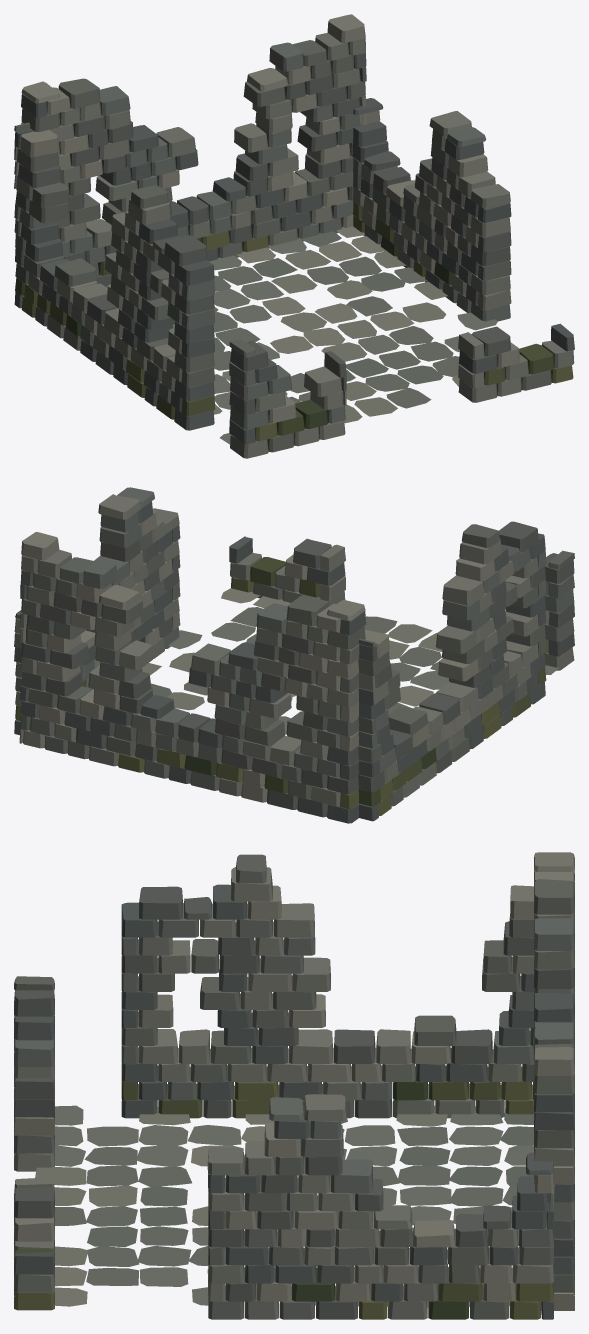
Rendered from fallen-keep-hall.glb.
3 renders of one model, top to bottom at view 1: azimuth 30°, elevation 25°; view 2: azimuth 150°, elevation 25°; view 3: azimuth 270°, elevation 25°, orthographic. The views are drawn at different scales.
Visible parts, largest first — view 1: FallenKeep_Roofless_hall; view 2: FallenKeep_Roofless_hall; view 3: FallenKeep_Roofless_hall.
Part boxes in pixels (left/top/right/bottom): FallenKeep_Roofless_hall: left=14, top=14, right=574, bottom=458; FallenKeep_Roofless_hall: left=14, top=487, right=574, bottom=823; FallenKeep_Roofless_hall: left=14, top=852, right=574, bottom=1319.
Bounding box in the file's own units: 11.95 × 6.61 × 12.95.
